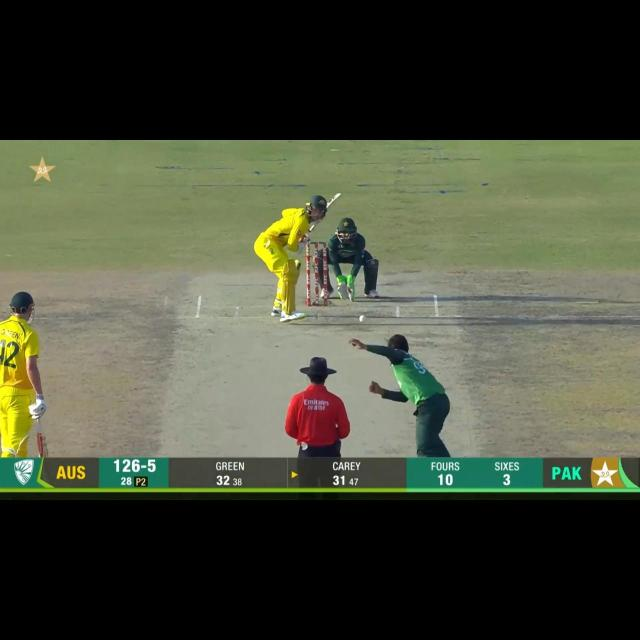bat: (311, 190, 342, 230), (34, 433, 52, 457)
toe: (328, 192, 342, 204)
